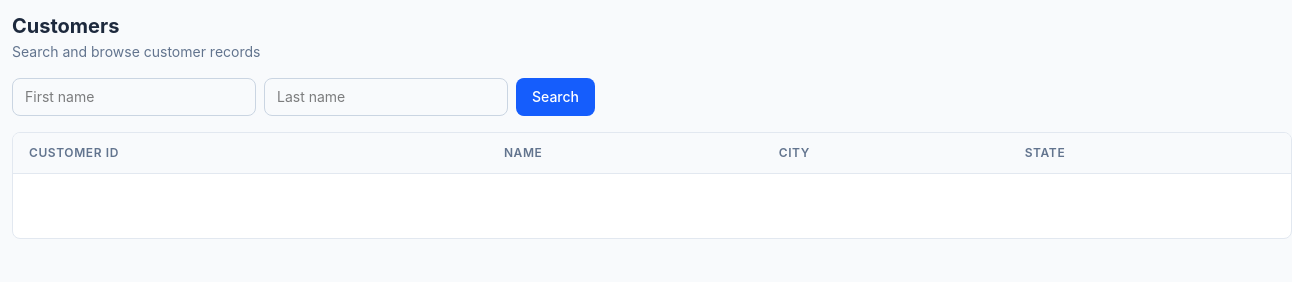
it: CustomersPage › fetches and displays customers on Search
The image size is (1292, 282).
Click the button "Search".
click(556, 97)  # box [516,78,595,116]
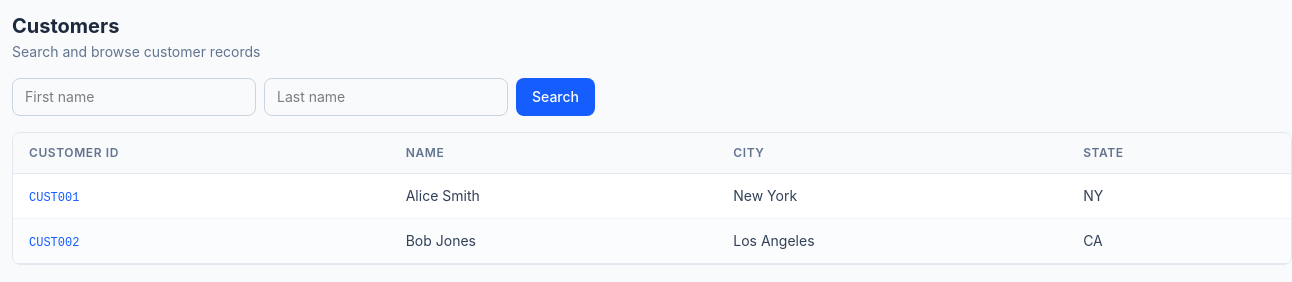
Now the button "CUST001" is shown, box [29,190,79,206]
